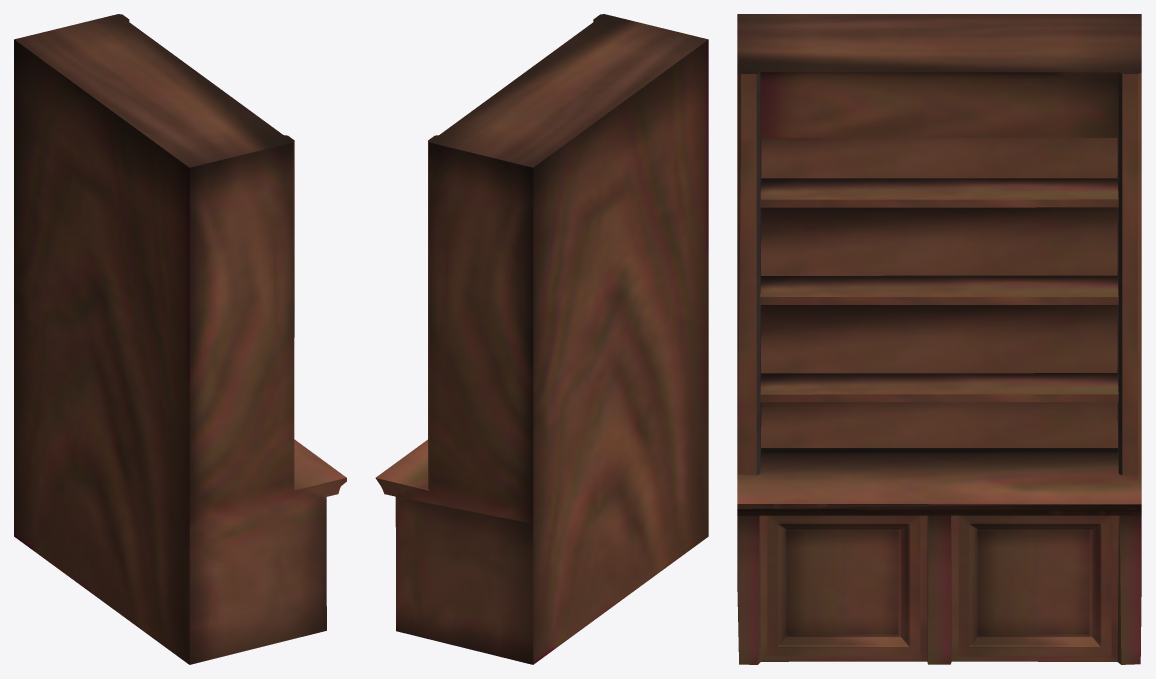
Rendered from Small shelf.glb.
3 views of the same model, side by side, from view 1: azimuth 30°, elevation 25°; view 2: azimuth 150°, elevation 25°; view 3: azimuth 270°, elevation 25° (orthographic). The views are drawn at different scales.
Visible parts, largest first — view 1: model_2.001; view 2: model_2.001; view 3: model_2.001.
Boxes of the visible parts, left/top/right/bottom form: model_2.001: left=14, top=14, right=346, bottom=664; model_2.001: left=375, top=14, right=708, bottom=664; model_2.001: left=737, top=14, right=1141, bottom=664.
Size of the model in its own units: 0.9824 by 2.96 by 1.89.
Materials: 1 (1 with a texture image).
